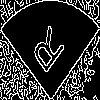R: (25, 25, 67, 82)
